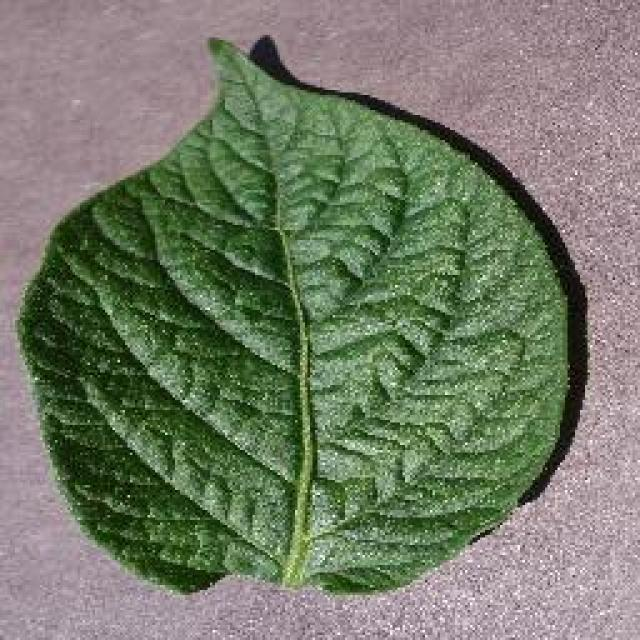Potato___healthy: (13, 33, 575, 598)
